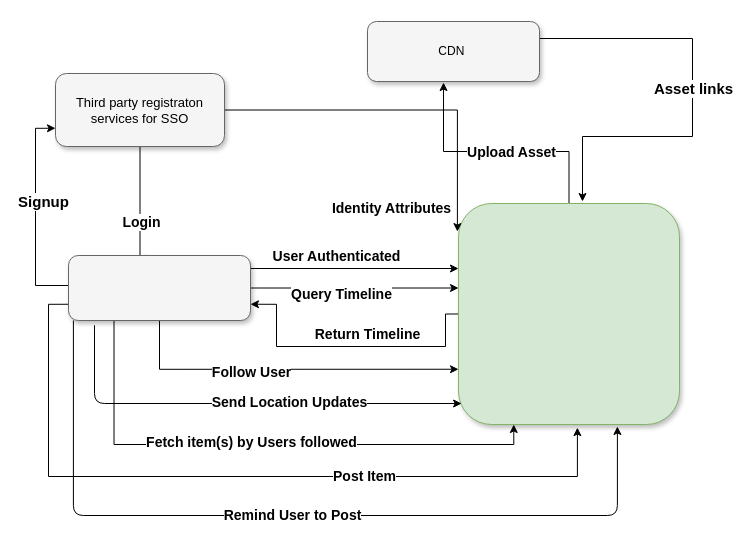
Image size: 750x541. Some labels were removed from this diagram. The centre of each missing label's shape, as x and y in pixels:
"Trawiller" belongs at (570,315).
"User" belongs at (160,289).
